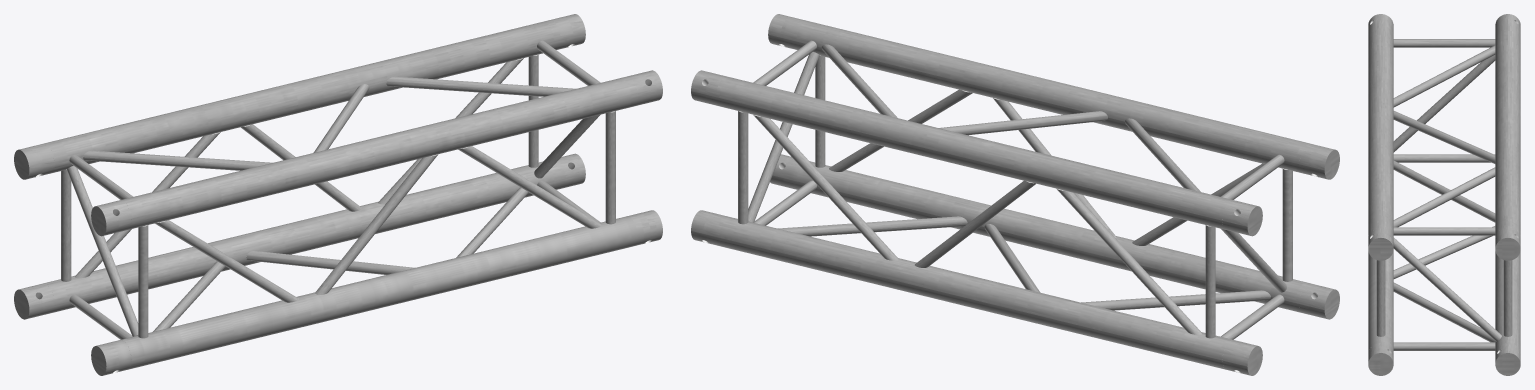
File: Milos_M290V_1000_Quattro_Truss_section-80b020c5.glb
3 views of the same model, side by side, from view 1: azimuth 30°, elevation 25°; view 2: azimuth 150°, elevation 25°; view 3: azimuth 270°, elevation 25° (orthographic). The views are drawn at different scales.
Parts seen in each view (by area): view 1: Geom3D; view 2: Geom3D; view 3: Geom3D.
Boxes of the visible parts, x1,y1,x2,y2 form: Geom3D: (14, 14, 662, 375); Geom3D: (691, 14, 1339, 375); Geom3D: (1368, 14, 1520, 375).
Bounding box in the file's own units: 1 × 0.288 × 0.288.
2 materials, 1 textured.
